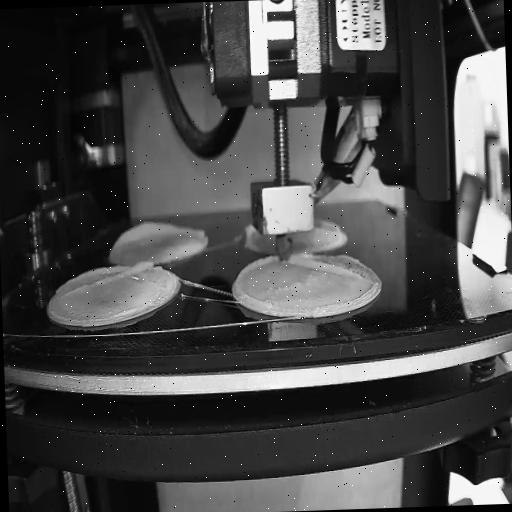over_extrusion: (63, 258, 153, 296), (112, 216, 206, 250), (232, 254, 280, 312), (291, 250, 362, 284), (314, 216, 340, 234), (240, 223, 254, 243)
